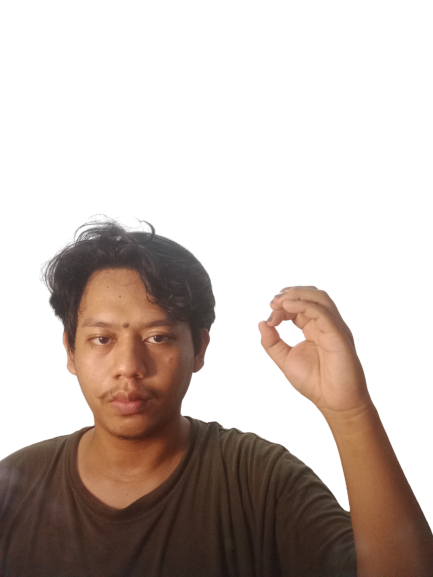O: (253, 276, 380, 417)
